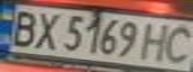1: (78, 13, 103, 55)
5: (60, 11, 87, 53)
6: (100, 16, 124, 56)
9: (115, 17, 145, 60)
B: (3, 7, 42, 48)
C: (160, 21, 193, 65)
H: (136, 20, 175, 62)
X: (27, 8, 63, 51)
